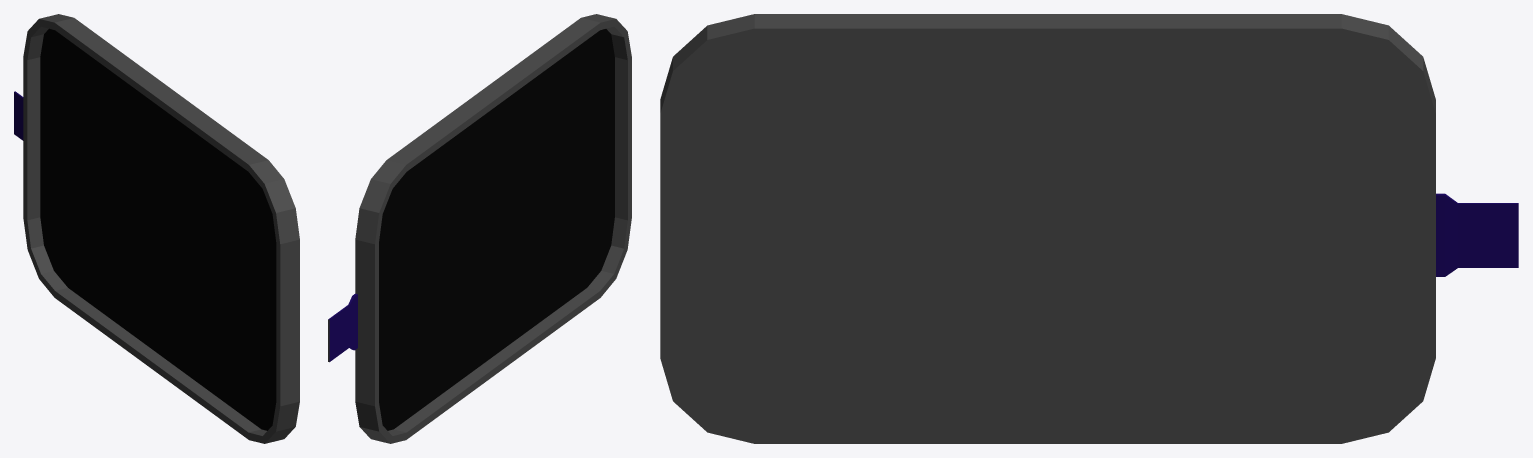
Rendered from MonitorDer.fbx.
3 renders of one model, left to right at view 1: azimuth 30°, elevation 25°; view 2: azimuth 150°, elevation 25°; view 3: azimuth 270°, elevation 25°, orthographic. The views are drawn at different scales.
Parts seen in each view (by area): view 1: Plane.002; view 2: Plane.002; view 3: Plane.002.
Part boxes in pixels (left/top/right/bottom): Plane.002: left=14, top=14, right=299, bottom=443; Plane.002: left=328, top=14, right=631, bottom=443; Plane.002: left=660, top=14, right=1518, bottom=443.
Size of the model in its own units: 1.43 by 19.11 by 35.77.
